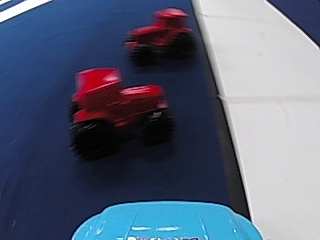tractor: (67, 61, 168, 158), (122, 7, 193, 65)
